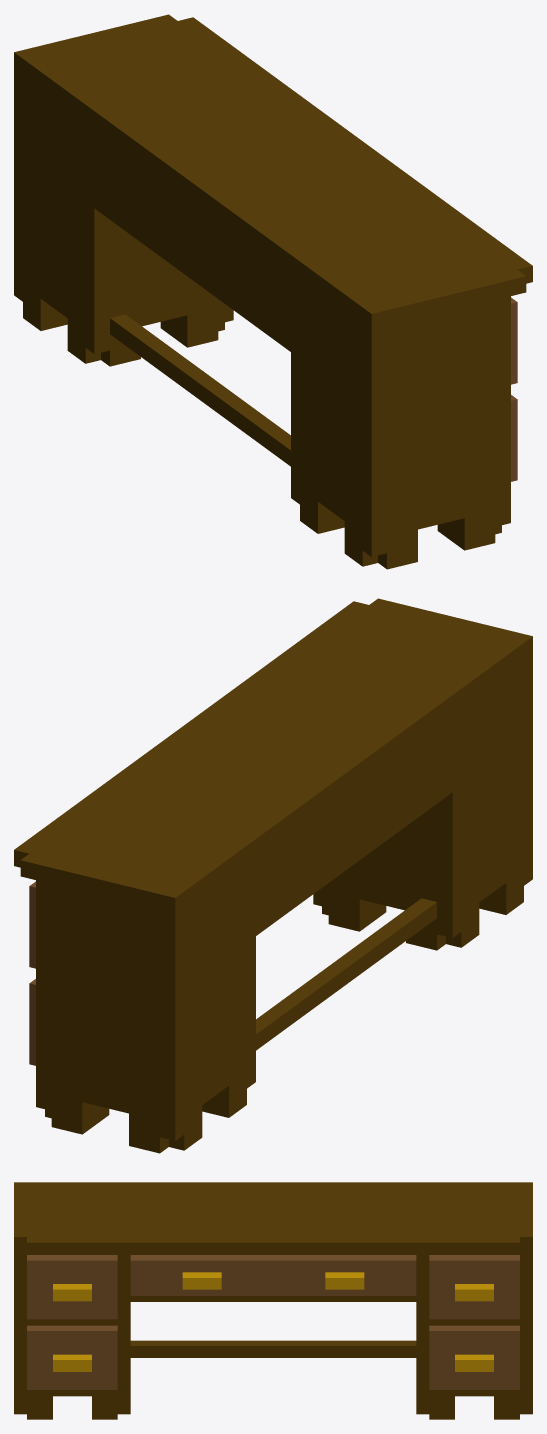
File: F_Desk.obj
3 renders of one model, top to bottom at view 1: azimuth 30°, elevation 25°; view 2: azimuth 150°, elevation 25°; view 3: azimuth 270°, elevation 25°, orthographic. The views are drawn at different scales.
Bounding box in the file's own units: 1.1 × 1.6 × 4.
1 material, 1 textured.
